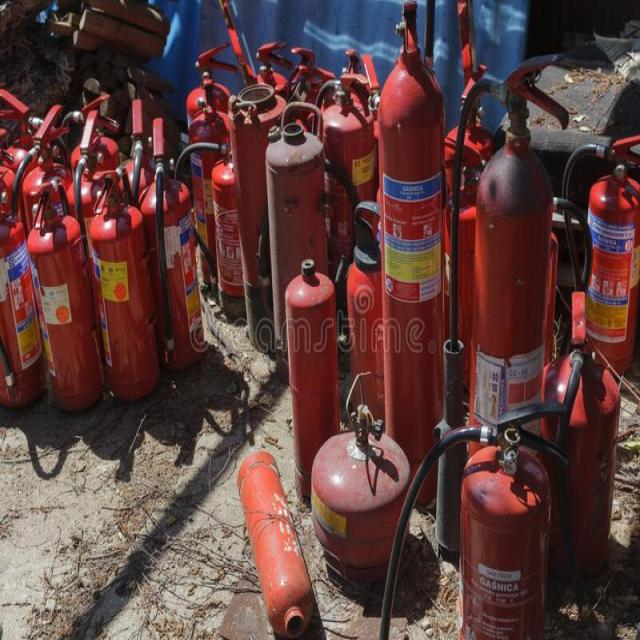fire_extinguisher: (431, 45, 577, 572), (375, 396, 575, 639), (374, 0, 445, 522), (532, 284, 624, 594), (224, 80, 320, 358), (304, 366, 415, 585), (81, 162, 169, 406), (167, 136, 277, 331), (24, 168, 109, 414), (559, 133, 639, 393), (310, 66, 379, 366), (8, 98, 88, 354), (262, 98, 329, 392), (135, 114, 209, 376), (56, 88, 121, 372), (345, 189, 411, 459), (282, 255, 346, 516), (234, 443, 316, 639), (109, 92, 165, 366), (183, 39, 239, 284), (0, 178, 55, 414)
